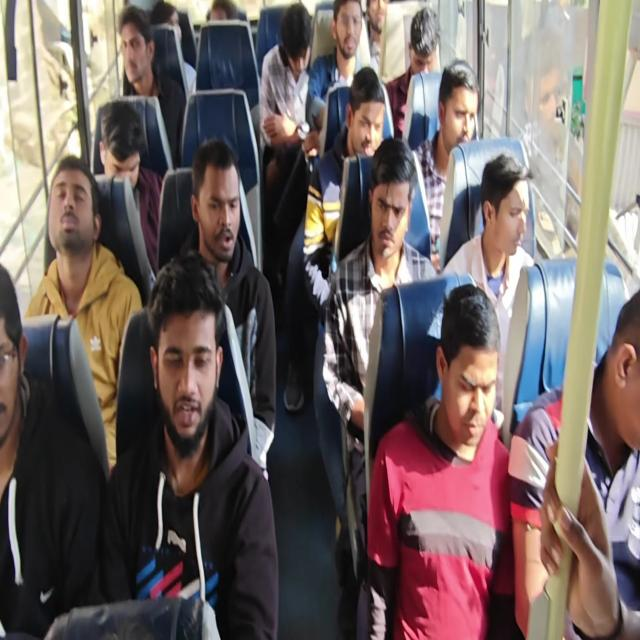person: (2, 1, 638, 638), (102, 250, 279, 638), (321, 136, 439, 635), (365, 282, 516, 638), (508, 287, 639, 638), (0, 262, 107, 638), (23, 154, 143, 473), (171, 137, 277, 479), (440, 152, 535, 418), (302, 66, 387, 316), (518, 26, 584, 254), (410, 58, 480, 268), (97, 99, 163, 278), (117, 4, 186, 170), (258, 2, 314, 200), (306, 0, 364, 146), (385, 6, 441, 139), (150, 0, 197, 96), (363, 0, 389, 75)
